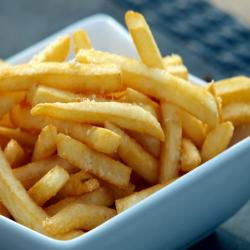fries: (4, 41, 250, 224)
